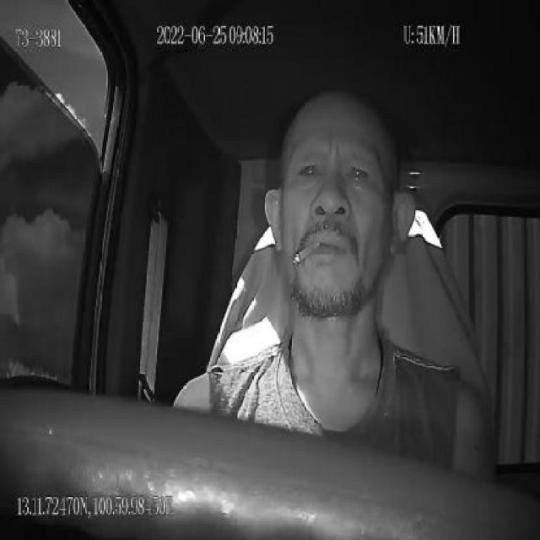smoking: (292, 241, 320, 267)
